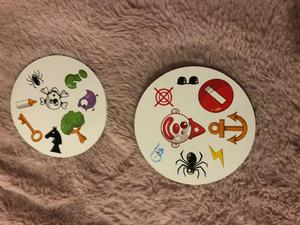ancre: (207, 109, 248, 144)
araignee: (173, 147, 207, 179), (20, 67, 50, 91)
arbre: (59, 109, 90, 145)
biberon: (14, 97, 41, 113)
bonhomme_neige: (149, 142, 166, 164)
cheval: (44, 126, 64, 154)
cible: (149, 85, 177, 110)
cle: (15, 113, 44, 143)
clown: (157, 109, 208, 148)
eclair: (208, 142, 225, 169)
lunette: (175, 73, 200, 87)
oiseau: (75, 86, 100, 114)
point_interrogation: (61, 68, 89, 90)
sens_interdit: (197, 79, 234, 112)
tete_mort: (38, 84, 69, 113)
